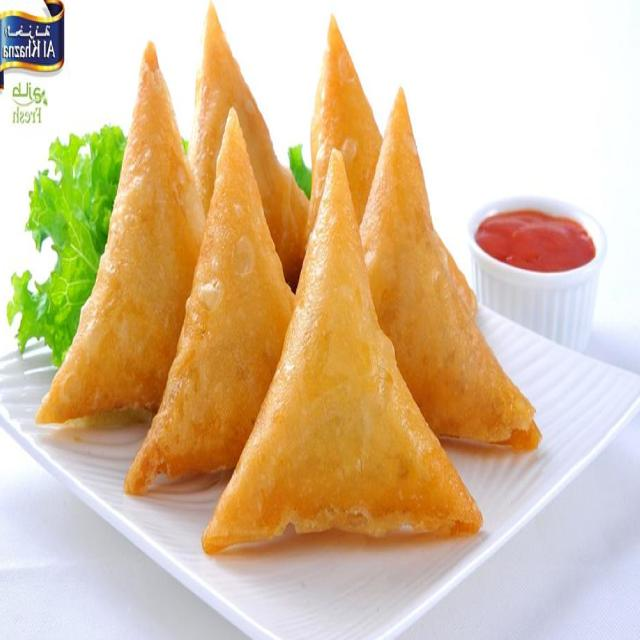samosa: (24, 19, 475, 569)
